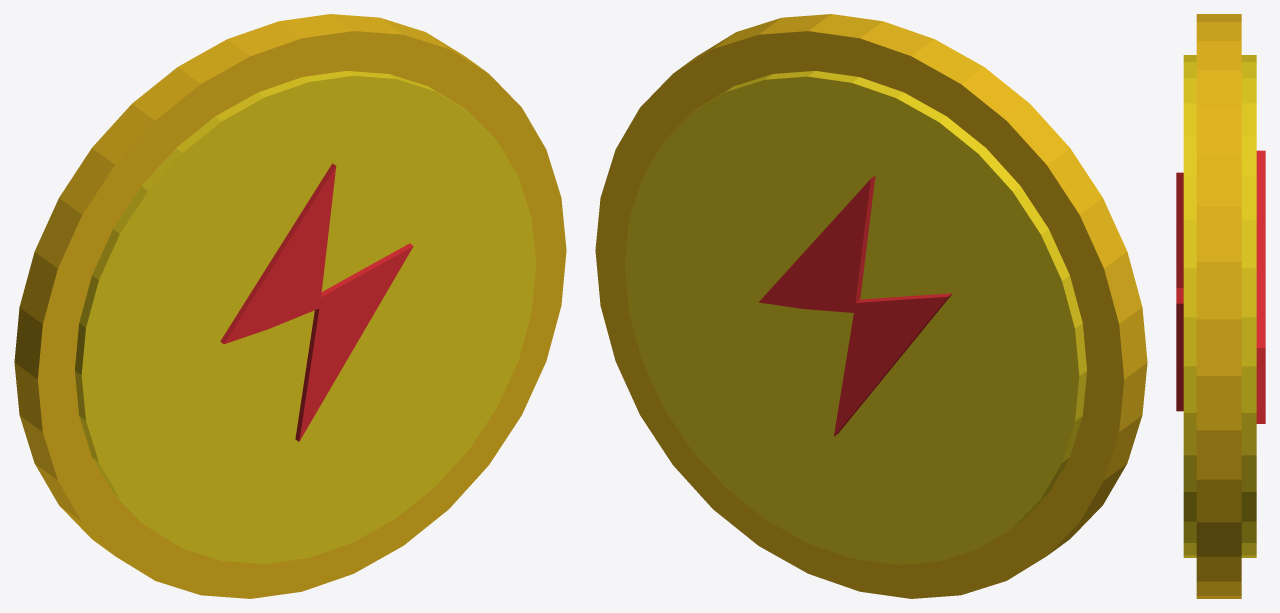
Rendered from CoindSpeed.fbx.
The picture shows the model from 3 angles, left to right: view 1: azimuth 30°, elevation 25°; view 2: azimuth 150°, elevation 25°; view 3: azimuth 270°, elevation 25°; orthographic projection. The views are drawn at different scales.
Parts seen in each view (by area): view 1: Cube.003; view 2: Cube.003; view 3: Cube.003.
Boxes of the visible parts, x1=… form: Cube.003: x1=14, y1=14, x2=566, y2=598; Cube.003: x1=595, y1=14, x2=1147, y2=598; Cube.003: x1=1176, y1=14, x2=1265, y2=598.
Bounding box in the file's own units: 200 × 200 × 30.51.
